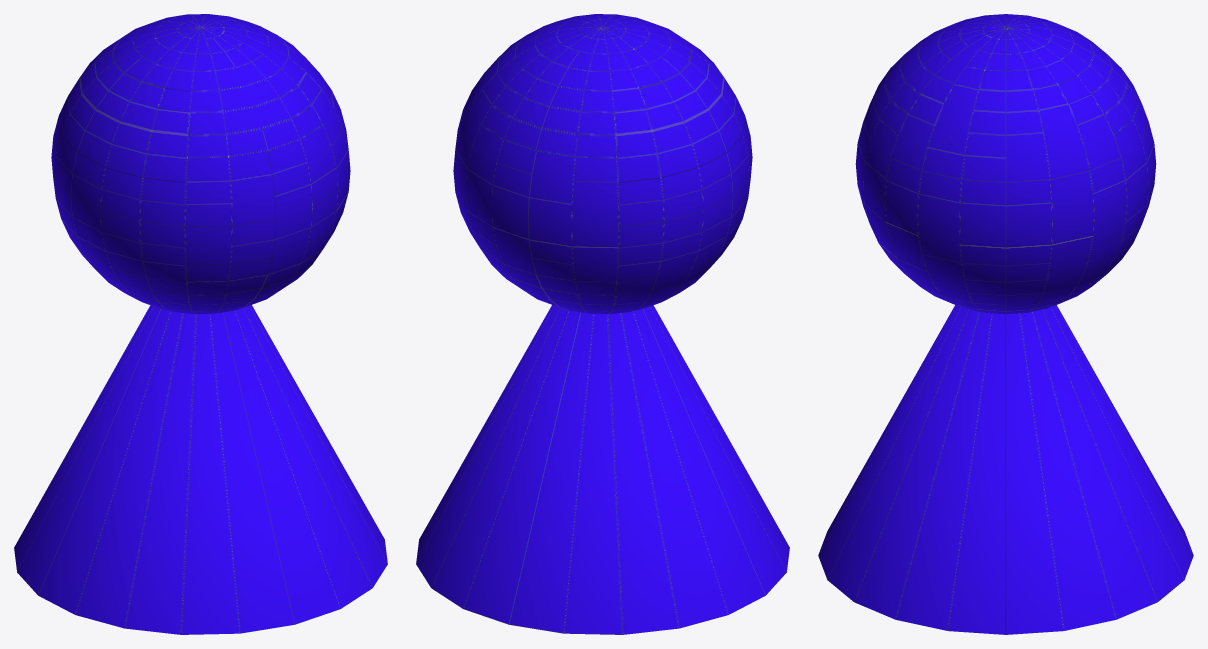
The model's file is player2.fbx.
3 renders of one model, left to right at view 1: azimuth 30°, elevation 25°; view 2: azimuth 150°, elevation 25°; view 3: azimuth 270°, elevation 25°, orthographic.
Visible parts, largest first — view 1: pCone2; view 2: pCone2; view 3: pCone2.
Part boxes in pixels (bbox=[...]): pCone2: bbox=[14, 14, 387, 634]; pCone2: bbox=[416, 14, 789, 634]; pCone2: bbox=[818, 14, 1193, 634].
Bounding box in the file's own units: 2 × 3.1 × 2.
Materials: 1 (1 with a texture image).
